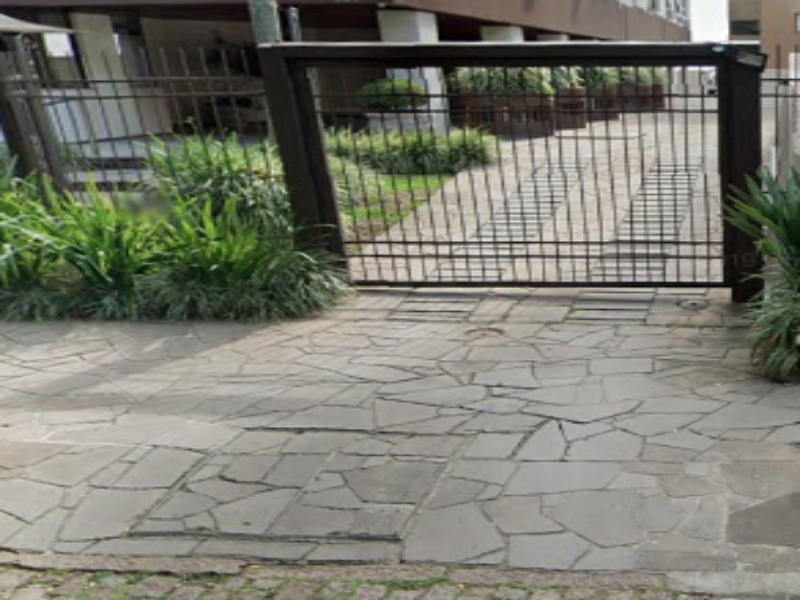g93: (41, 511, 755, 600)
